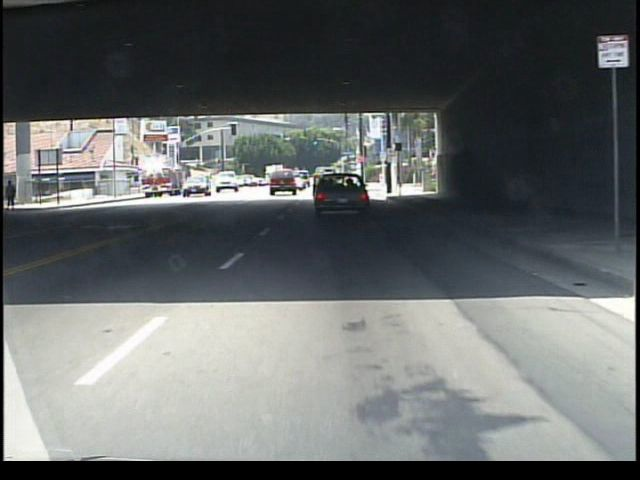person: (7, 181, 19, 211)
